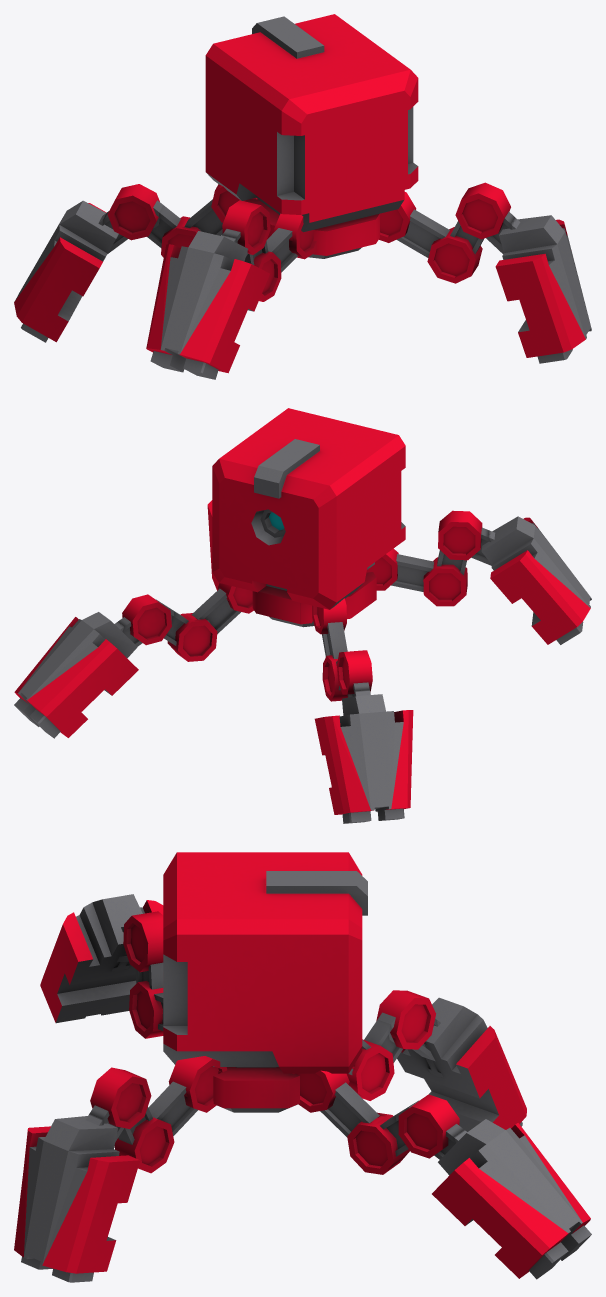
File: Monster1_Move17.obj
3 views of the same model, one above another, from view 1: azimuth 30°, elevation 25°; view 2: azimuth 150°, elevation 25°; view 3: azimuth 270°, elevation 25° (orthographic). The views are drawn at different scales.
Parts seen in each view (by area): view 1: Box006, Object021, Object017, Object025, Object020, Object028, Object018, Object019, Object024, Object022, Object027, Object026 (+1 smaller); view 2: Box006, Object025, Object013, Object021, Object024, Object016, Object015, Object023, Object022, Object014, Object028, Object026 (+1 smaller); view 3: Box006, Object017, Object013, Object025, Object021, Object018, Object014, Object016, Object020, Object027, Object015, Object028 (+3 smaller).
Boxes of the visible parts, <box> form: Box006: <box>205,14,418,258</box>; Object021: <box>146,231,269,379</box>; Object017: <box>495,215,591,363</box>; Object025: <box>14,200,118,342</box>; Object020: <box>455,182,520,253</box>; Object028: <box>98,184,159,253</box>; Object018: <box>379,192,449,257</box>; Object019: <box>427,221,483,283</box>; Object024: <box>222,200,270,256</box>; Object022: <box>266,213,316,272</box>; Object027: <box>147,200,200,257</box>; Object026: <box>184,184,257,235</box>; Box006: <box>212,408,405,627</box>; Object025: <box>314,694,413,823</box>; Object013: <box>14,612,138,738</box>; Object021: <box>481,516,591,644</box>; Object024: <box>438,510,495,565</box>; Object016: <box>114,594,171,646</box>; Object015: <box>155,599,217,661</box>; Object023: <box>423,550,467,606</box>; Object022: <box>366,548,433,591</box>; Object014: <box>191,583,253,633</box>; Object028: <box>337,650,372,697</box>; Object026: <box>312,598,347,658</box>; Box006: <box>163,852,367,1112</box>; Object017: <box>14,1116,139,1282</box>; Object013: <box>432,1119,591,1279</box>; Object025: <box>397,997,526,1131</box>; Object021: <box>40,894,163,1023</box>; Object018: <box>148,1056,227,1135</box>; Object014: <box>292,1070,379,1137</box>; Object016: <box>398,1094,467,1159</box>; Object020: <box>85,1067,151,1141</box>; Object027: <box>347,1012,402,1100</box>; Object015: <box>347,1100,418,1174</box>; Object028: <box>376,990,440,1061</box>.
Size of the model in its own units: 167 by 115 by 171.
